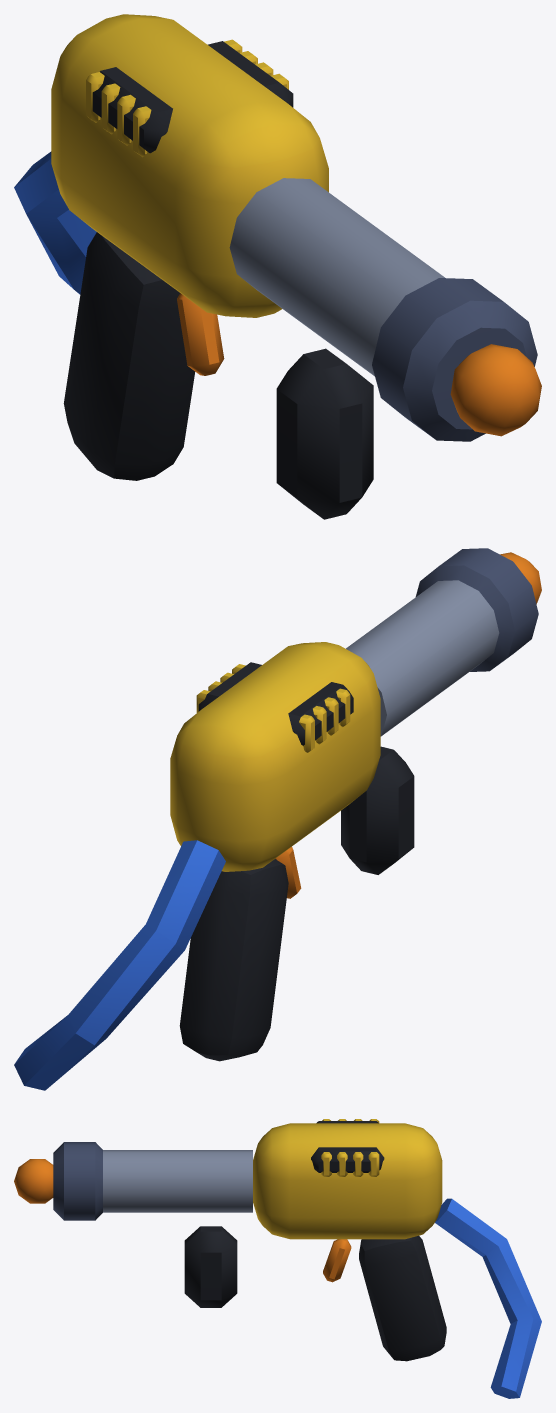
The model's file is w_b_rivet.glb.
3 renders of one model, top to bottom at view 1: azimuth 30°, elevation 25°; view 2: azimuth 150°, elevation 25°; view 3: azimuth 270°, elevation 25°, orthographic. The views are drawn at different scales.
Parts seen in each view (by area): view 1: body; view 2: body; view 3: body.
Boxes of the visible parts, bbox=[...] form: body: bbox=[14, 14, 541, 519]; body: bbox=[14, 548, 541, 1090]; body: bbox=[14, 1119, 541, 1398].
Bounding box in the file's own units: 0.2264 × 0.3936 × 0.8039.
